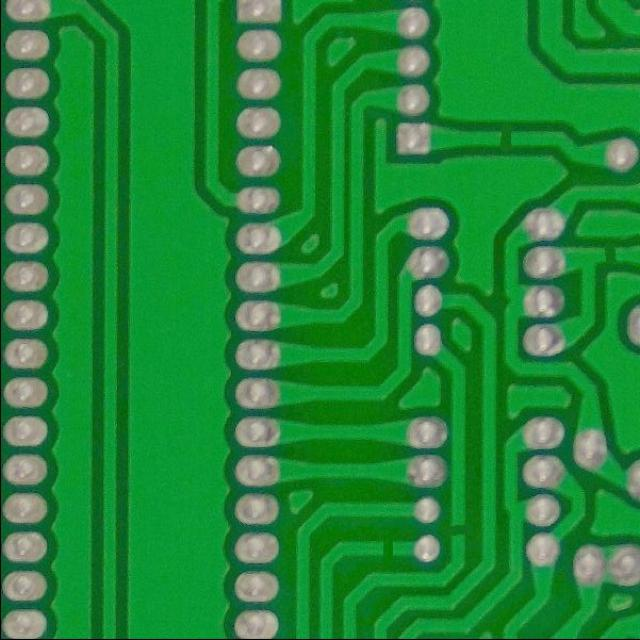Open_Circuit: (367, 526, 408, 567), (484, 120, 527, 156), (591, 236, 629, 272), (440, 512, 477, 548)
